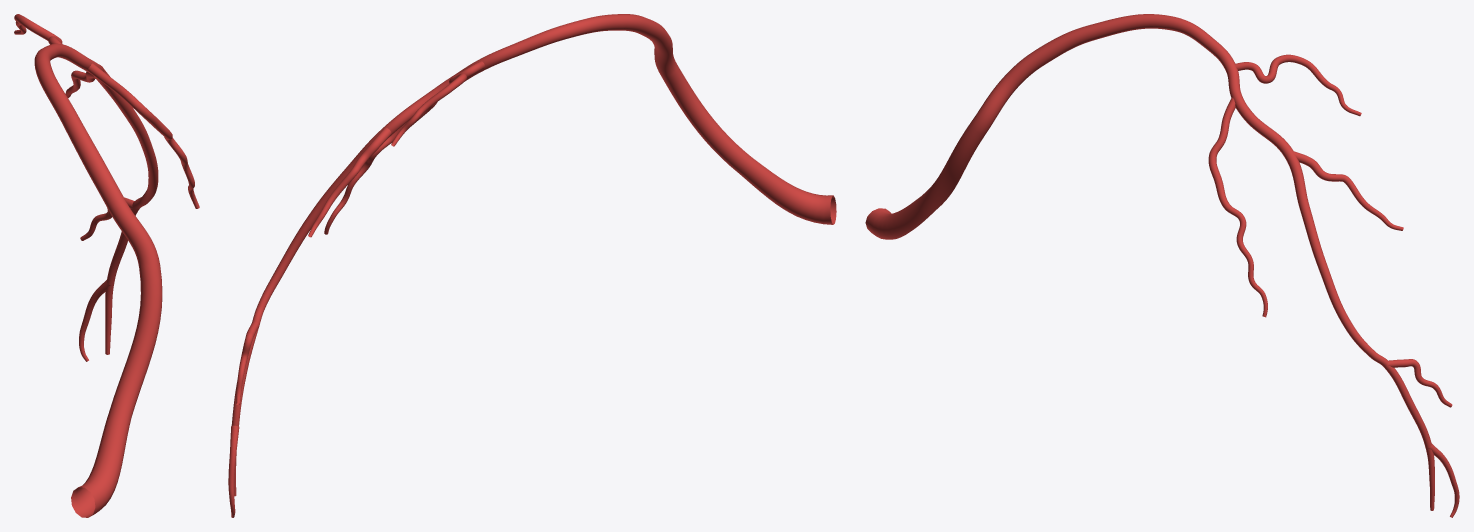
The picture shows the model from 3 angles, left to right: view 1: azimuth 30°, elevation 25°; view 2: azimuth 150°, elevation 25°; view 3: azimuth 270°, elevation 25°; orthographic projection. The views are drawn at different scales.
Parts seen in each view (by area): view 1: 旋支; view 2: 旋支; view 3: 旋支.
Part boxes in pixels (x1,y1,x2,y2): 旋支: (14,14,199,517); 旋支: (228,14,836,517); 旋支: (865,14,1459,517).
Size of the model in its own units: 0.0664 by 0.0847 by 0.1103.
